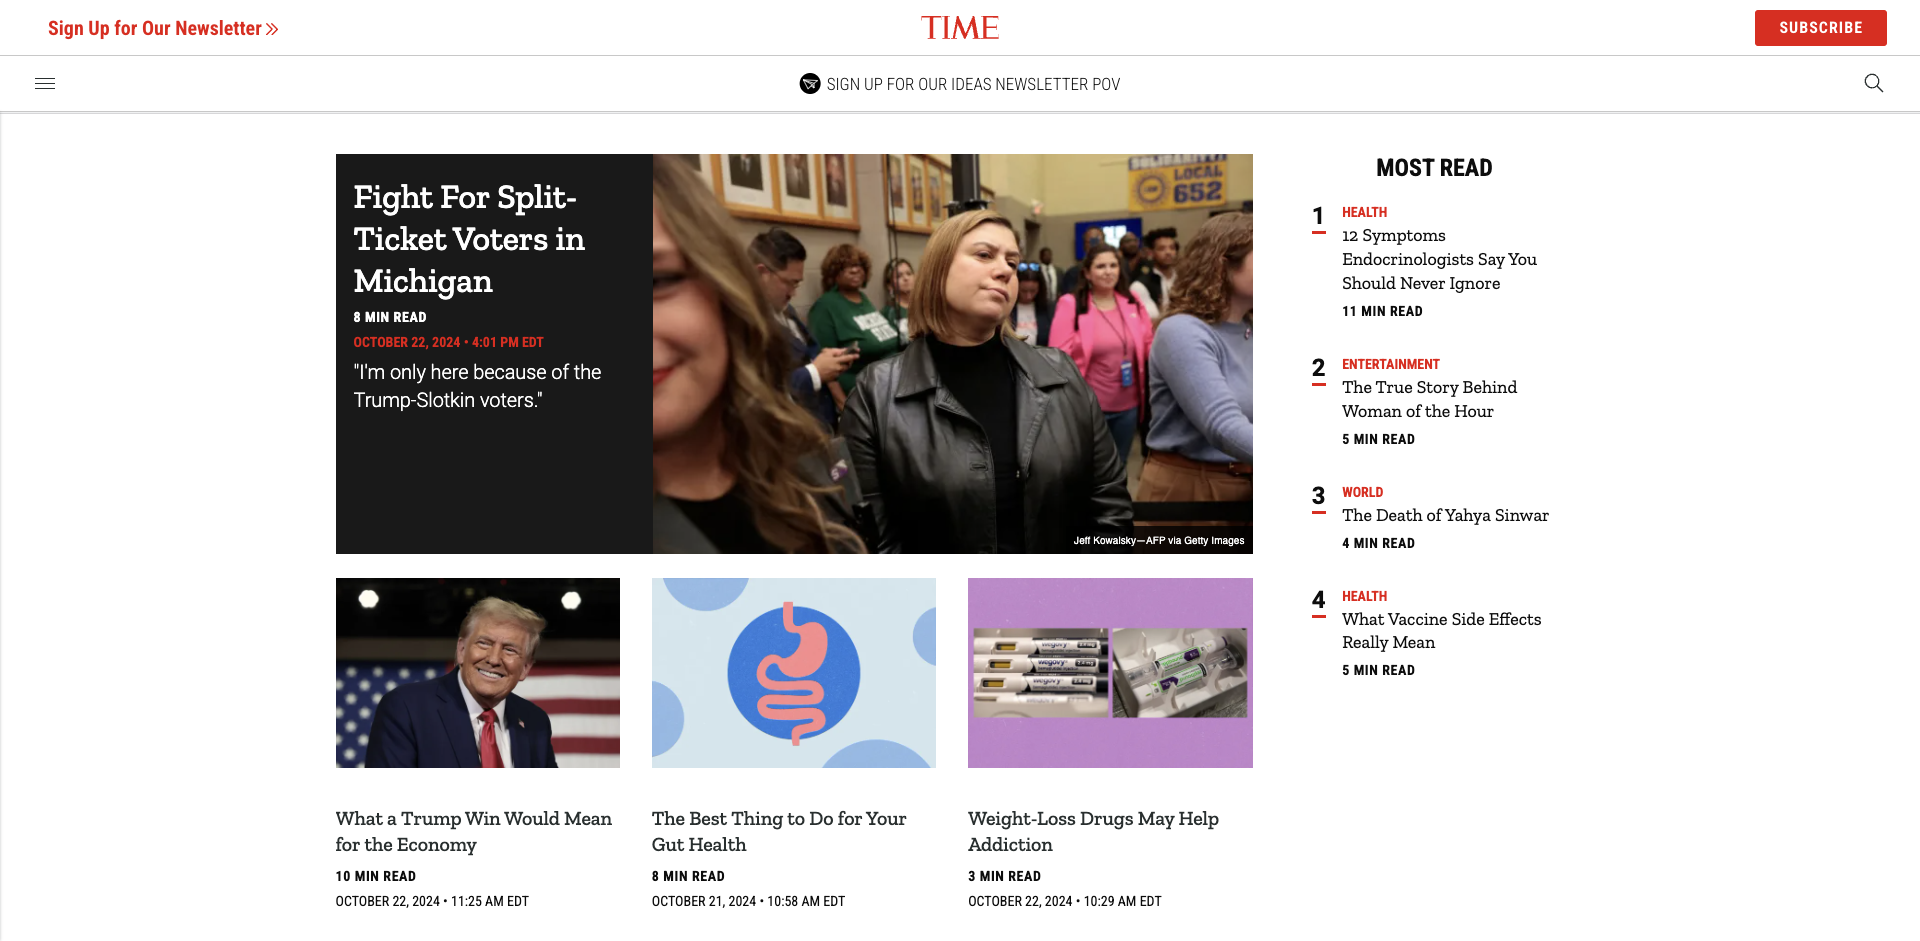button: (1756, 10, 1887, 45), (1844, 56, 1896, 111), (24, 56, 64, 111), (1851, 67, 1896, 102), (32, 71, 56, 96), (36, 77, 55, 78)
icon: (1858, 67, 1891, 99), (267, 23, 278, 36)
input: (1896, 67, 1920, 98)
link: (653, 154, 1253, 554), (651, 578, 937, 767), (336, 578, 620, 767), (969, 578, 1253, 767), (354, 176, 634, 303), (1342, 224, 1558, 295), (651, 805, 937, 856), (336, 805, 620, 856), (969, 805, 1253, 856), (1342, 376, 1558, 424), (1342, 608, 1558, 656), (800, 74, 1120, 94), (48, 13, 278, 42), (1342, 504, 1550, 528), (1342, 202, 1558, 224), (1342, 354, 1558, 376), (1342, 586, 1558, 608), (1756, 10, 1887, 45), (1342, 482, 1550, 504), (72, 56, 154, 111), (920, 0, 1000, 55)
